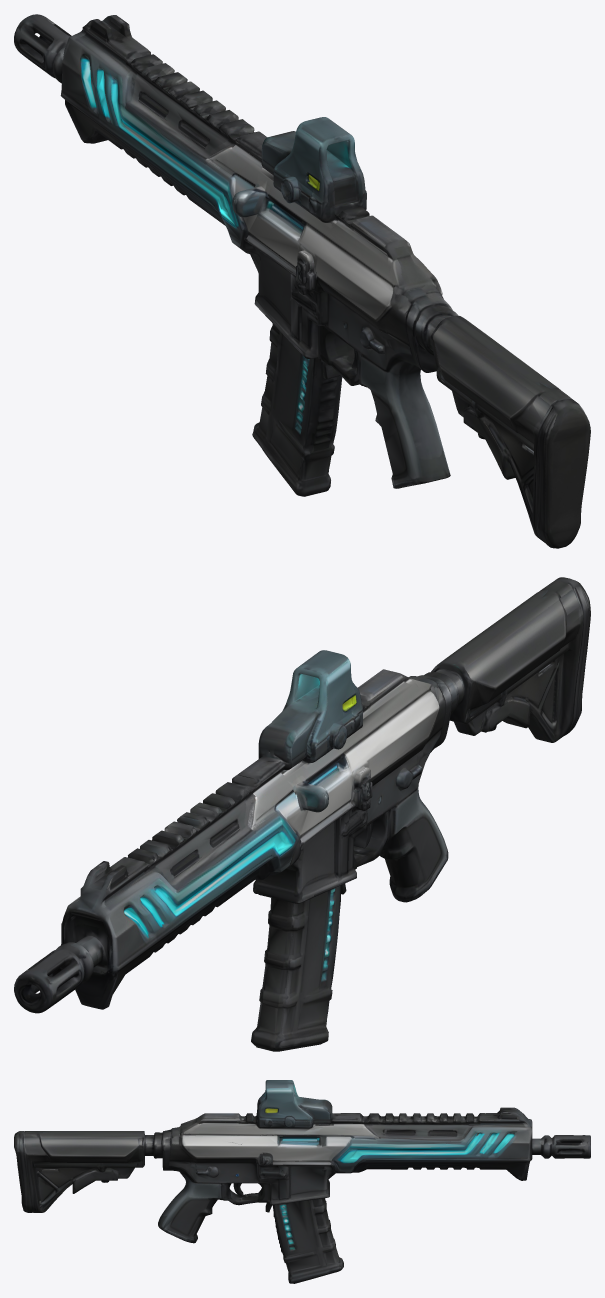
The picture shows the model from 3 angles, top to bottom: view 1: azimuth 30°, elevation 25°; view 2: azimuth 150°, elevation 25°; view 3: azimuth 270°, elevation 25°; orthographic projection. The views are drawn at different scales.
Visible parts, largest first — view 1: gun_rifle; view 2: gun_rifle; view 3: gun_rifle.
Boxes of the visible parts, box(x1,y1,x2,y2) form: gun_rifle: box(14, 14, 590, 548); gun_rifle: box(14, 577, 590, 1051); gun_rifle: box(14, 1080, 590, 1283).
Bounding box in the file's own units: 0.0988 × 0.45 × 1.18.
Materials: 1 (1 with a texture image).
